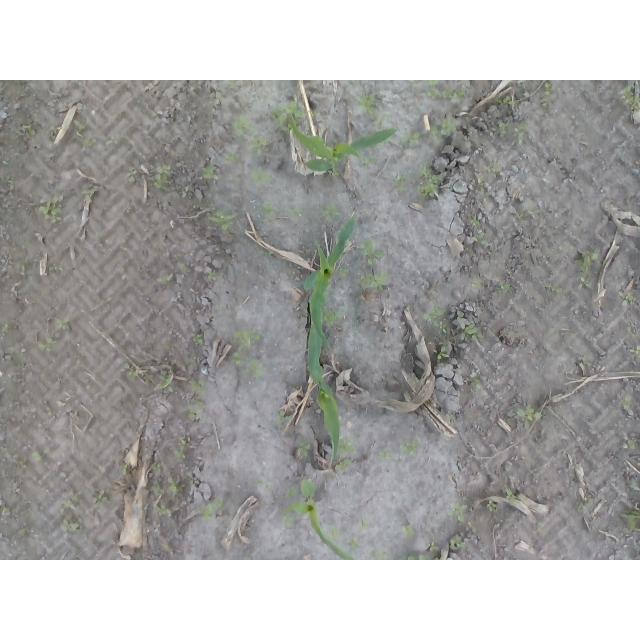Maize: (302, 215, 356, 398), (287, 108, 398, 172), (286, 477, 359, 560), (315, 382, 341, 463)
Weeds: (269, 102, 303, 135), (417, 161, 444, 199), (422, 304, 447, 335), (573, 248, 599, 276), (39, 196, 64, 224), (356, 270, 389, 291), (359, 239, 385, 265), (234, 327, 260, 351), (516, 404, 542, 428), (206, 210, 234, 231), (60, 512, 84, 536), (150, 165, 171, 192), (619, 83, 640, 110), (242, 359, 266, 380), (233, 115, 255, 137), (358, 93, 379, 116), (620, 508, 640, 532), (154, 371, 174, 394), (60, 490, 83, 510), (460, 322, 485, 340), (441, 88, 467, 105), (250, 166, 271, 187), (320, 310, 345, 327), (448, 502, 469, 522), (247, 137, 269, 156), (187, 397, 206, 419), (335, 437, 357, 456), (400, 438, 421, 457), (319, 204, 341, 222), (174, 437, 191, 460), (90, 489, 110, 507), (432, 340, 450, 360), (37, 337, 59, 353), (393, 173, 411, 192), (167, 477, 185, 496), (429, 125, 446, 144), (254, 477, 273, 494), (367, 546, 390, 560), (272, 409, 292, 425), (401, 133, 422, 148), (514, 124, 529, 145), (30, 447, 50, 462), (397, 553, 439, 560), (199, 503, 216, 520), (12, 455, 28, 473), (448, 534, 466, 550), (618, 290, 636, 306), (287, 204, 305, 220), (470, 370, 483, 392), (18, 121, 37, 136), (259, 203, 278, 218), (495, 94, 518, 106), (201, 166, 219, 181), (187, 379, 205, 394), (73, 118, 86, 138), (124, 362, 139, 379), (54, 316, 71, 331), (441, 118, 455, 136), (153, 504, 172, 517), (506, 488, 519, 507), (296, 442, 312, 457), (47, 124, 61, 141), (358, 516, 372, 533), (377, 447, 395, 460), (125, 169, 140, 184), (326, 527, 341, 542), (401, 525, 416, 540), (231, 351, 245, 366), (545, 283, 564, 294), (224, 152, 240, 165), (490, 122, 506, 135), (335, 458, 352, 470), (82, 187, 97, 200), (619, 397, 634, 410), (578, 277, 593, 290), (360, 158, 376, 170), (149, 483, 165, 495), (622, 438, 636, 451), (499, 279, 512, 293), (16, 261, 28, 276), (105, 134, 120, 146), (157, 274, 174, 284), (374, 114, 387, 127), (150, 461, 162, 475), (346, 536, 360, 548), (425, 540, 439, 552), (486, 498, 498, 512), (191, 333, 204, 345), (282, 514, 295, 526), (487, 164, 502, 174), (48, 264, 64, 273), (576, 496, 585, 512), (428, 89, 441, 100), (207, 270, 218, 283), (84, 137, 98, 147), (630, 478, 640, 492), (336, 267, 350, 277), (4, 174, 15, 186), (467, 521, 478, 533), (629, 344, 640, 356), (626, 326, 636, 339), (186, 471, 195, 485), (581, 355, 592, 366), (214, 91, 222, 106), (380, 137, 392, 147), (469, 214, 479, 226), (258, 248, 273, 256), (213, 497, 223, 509), (539, 97, 550, 107), (475, 233, 485, 244), (119, 464, 129, 475), (1, 505, 12, 515), (472, 279, 483, 289), (284, 490, 296, 499), (544, 83, 552, 96), (536, 522, 545, 533), (328, 168, 338, 177), (585, 494, 595, 503), (457, 309, 464, 321), (483, 193, 492, 202), (162, 543, 171, 552), (515, 211, 525, 219), (46, 405, 54, 415), (446, 409, 454, 419), (183, 187, 190, 198), (1, 324, 9, 333), (311, 111, 321, 118), (227, 80, 238, 86), (60, 472, 69, 479), (429, 80, 439, 86), (18, 528, 26, 535), (163, 341, 170, 349), (527, 210, 538, 215), (188, 357, 195, 364), (160, 142, 167, 147), (245, 556, 251, 560)
